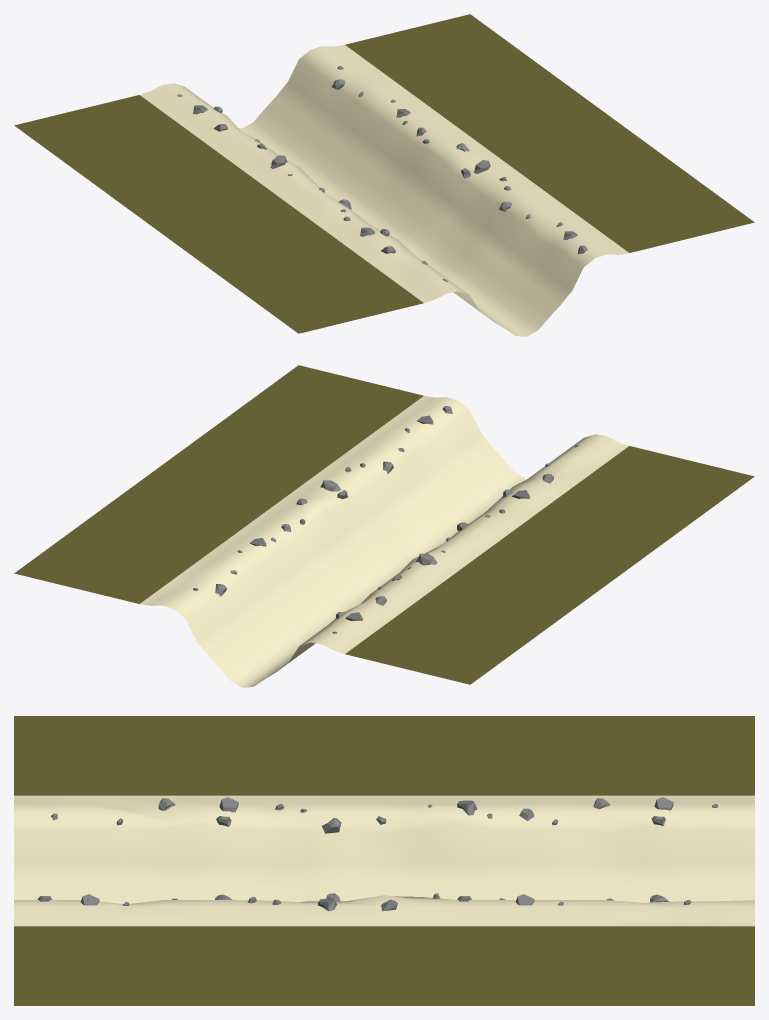
File: canoeTerrainPost_N.gltf
3 views of the same model, one above another, from view 1: azimuth 30°, elevation 25°; view 2: azimuth 150°, elevation 25°; view 3: azimuth 270°, elevation 25° (orthographic). The views are drawn at different scales.
Visible parts, largest first — view 1: canoeTerrainPost; view 2: canoeTerrainPost; view 3: canoeTerrainPost.
Boxes of the visible parts, left/top/right/bottom form: canoeTerrainPost: left=14, top=14, right=754, bottom=336; canoeTerrainPost: left=14, top=365, right=754, bottom=687; canoeTerrainPost: left=14, top=716, right=754, bottom=1005.
Size of the model in its own units: 157 by 23.82 by 170.
